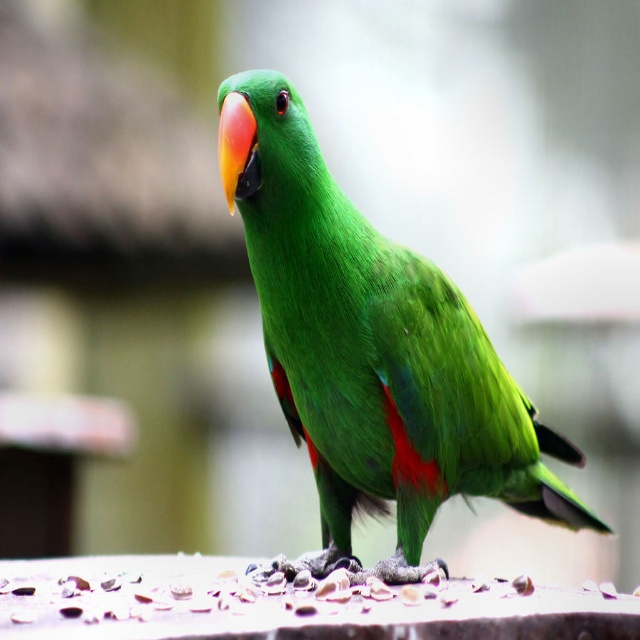Parrot: (217, 66, 620, 591)
